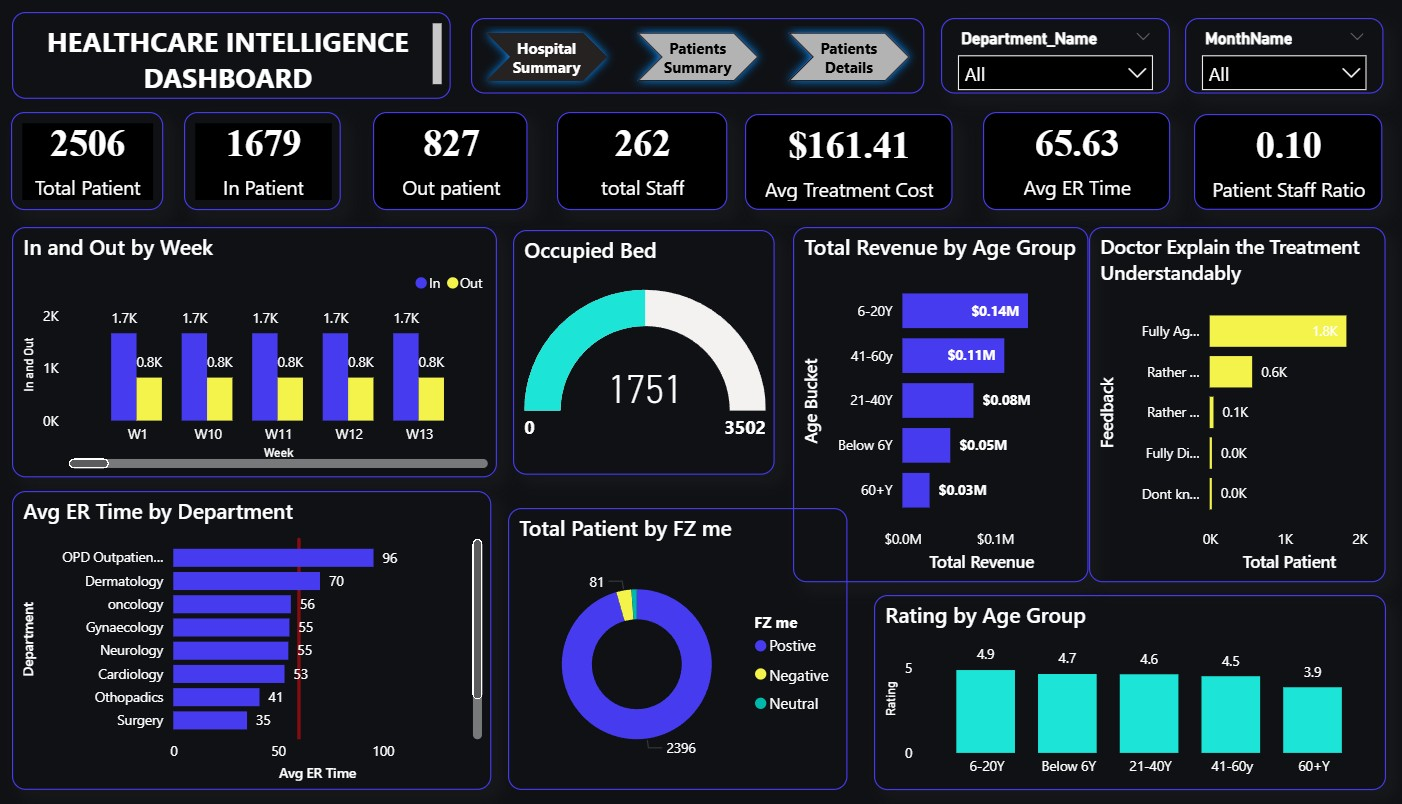

This screenshot's page, from the dashboard's own definition file:
{"tool":"powerbi","page":{"name":"Hospital Summary ","canvas":[1280,720],"ordinal":0},"visuals":[{"type":"cardVisual","fields":{"Data":["Measure.Total Patient"]},"box":[31,105.5,134.8,86.9],"z":1000},{"type":"textbox","box":[31.9,16.8,389.3,77.1],"z":2000},{"type":"slicer","fields":{"Values":["Department.Department_Name"]},"box":[855.7,22.2,203.1,67.4],"z":3000},{"type":"slicer","fields":{"Values":["Calendar_date.MonthName"]},"box":[1072,22.2,176.5,67.4],"z":4000},{"type":"cardVisual","fields":{"Data":["Measure.In Patient"]},"box":[184.4,105.5,139.2,86.9],"z":5000},{"type":"cardVisual","fields":{"Data":["Measure.Outpatient"]},"box":[352,105.5,137.4,86.9],"z":6000},{"type":"cardVisual","fields":{"Data":["Bed_Detail.total Staff"]},"box":[515.2,105.5,150.7,86.9],"z":7000},{"type":"cardVisual","fields":{"Data":["Measure.Avg Treatment Cost"]},"box":[681.9,107.3,183.5,85.1],"z":8000},{"type":"cardVisual","fields":{"Data":["Measure.Avg ER Time"]},"box":[892.9,105.5,165.8,86.9],"z":9000},{"type":"cardVisual","fields":{"Data":["Bed_Detail.Patient Staff Ratio"]},"box":[1080,107.3,166.7,85.1],"z":10000},{"type":"clusteredColumnChart","fields":{"Y":["Calendar_date.In Patient","Calendar_date.Outpatient"],"Category":["Calendar_date.WeekName"]},"box":[31.5,207.7,429.8,221.7],"z":11000},{"type":"gauge","fields":{"Y":["Divide(Measure.Occupied Bed, ScopedEval(Measure.Occupied Bed, []))"]},"box":[476.2,210.1,232.3,217.2],"z":12000},{"type":"clusteredBarChart","title":"Total Revenue by Age Group","fields":{"Y":["Measure.Total Revenue"],"Category":["Detail data dataset.Age Bucket"]},"box":[724.5,207.4,262.5,314.8],"z":13000},{"type":"barChart","fields":{"Y":["Measure.Avg ER Time"],"Category":["Department.Department_Name"]},"box":[31.9,441.6,424.7,265.1],"z":14000},{"type":"barChart","title":"Doctor Explain the Treatment Understandably","fields":{"Y":["Measure.Total Patient"],"Category":["Detail data dataset.Feedback"]},"box":[987,207.4,263.3,314.8],"z":15000},{"type":"columnChart","title":"Rating by Age Group","fields":{"Y":["Measure.Rating"],"Category":["Detail data dataset.Age Bucket"]},"box":[796.2,533.9,454.2,173],"z":16000},{"type":"donutChart","fields":{"Y":["Measure.Total Patient"],"Category":["Detail data dataset.FZ me"]},"box":[471.7,456.9,301.4,250.1],"z":17000},{"type":"pageNavigator","box":[438.9,22.2,401.7,67.4],"z":18000}]}

Visuals, with their boxes in screenshot pixels (x1, y1, x2, y2), scaled from the page's 1280x720 canvas onto the 1402x804 screenshot:
cardVisual - Measure.Total Patient: [34, 118, 182, 215]
textbox: [35, 19, 461, 105]
slicer - Department.Department_Name: [937, 25, 1160, 100]
slicer - Calendar_date.MonthName: [1174, 25, 1367, 100]
cardVisual - Measure.In Patient: [202, 118, 354, 215]
cardVisual - Measure.Outpatient: [386, 118, 536, 215]
cardVisual - Bed_Detail.total Staff: [564, 118, 729, 215]
cardVisual - Measure.Avg Treatment Cost: [747, 120, 948, 215]
cardVisual - Measure.Avg ER Time: [978, 118, 1160, 215]
cardVisual - Bed_Detail.Patient Staff Ratio: [1183, 120, 1366, 215]
clusteredColumnChart - Calendar_date.In Patient x Calendar_date.Outpatient: [35, 232, 505, 479]
gauge - Divide(Measure.Occupied Bed, ScopedEval(Measure.Occupied Bed, [])): [522, 235, 776, 477]
"Total Revenue by Age Group" clusteredBarChart: [794, 232, 1081, 583]
barChart - Measure.Avg ER Time x Department.Department_Name: [35, 493, 500, 789]
"Doctor Explain the Treatment Understandably" barChart: [1081, 232, 1369, 583]
"Rating by Age Group" columnChart: [872, 596, 1370, 789]
donutChart - Measure.Total Patient x Detail data dataset.FZ me: [517, 510, 847, 789]
pageNavigator: [481, 25, 921, 100]
